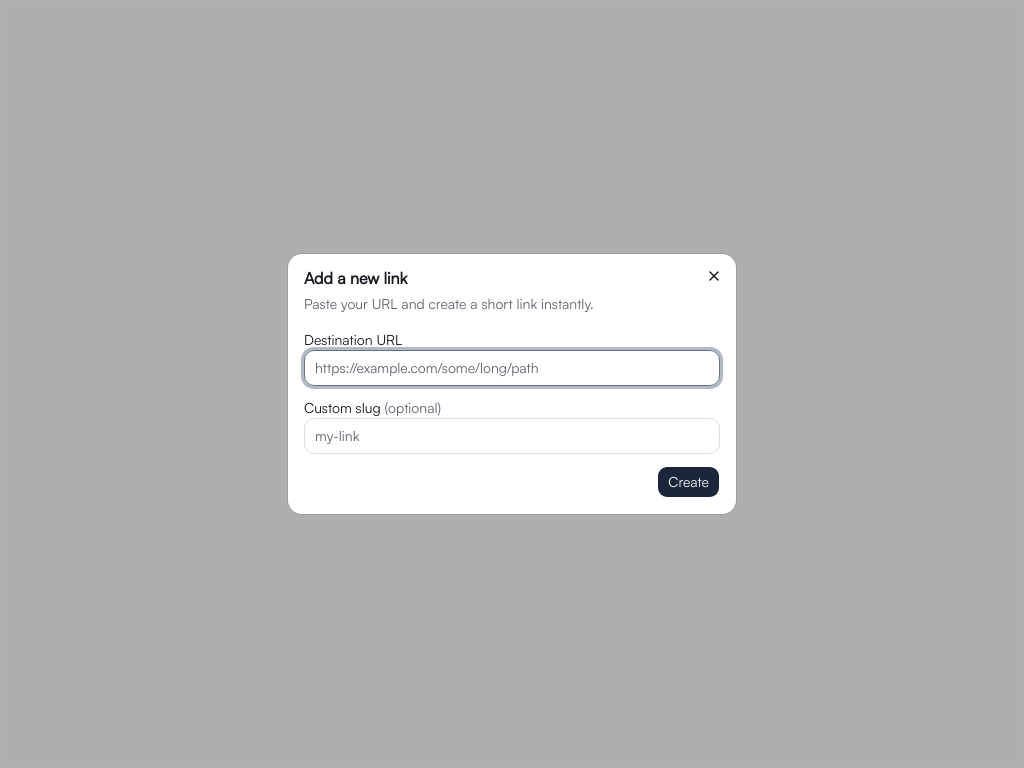
Test: AddLinkDialog › shows backend uniqueness errors after a valid form passes Zod
This screenshot has width=1024, height=768.
Type "https://example.com" into the field labelled "Destination URL" at (512, 368), box [304,350,720,386]
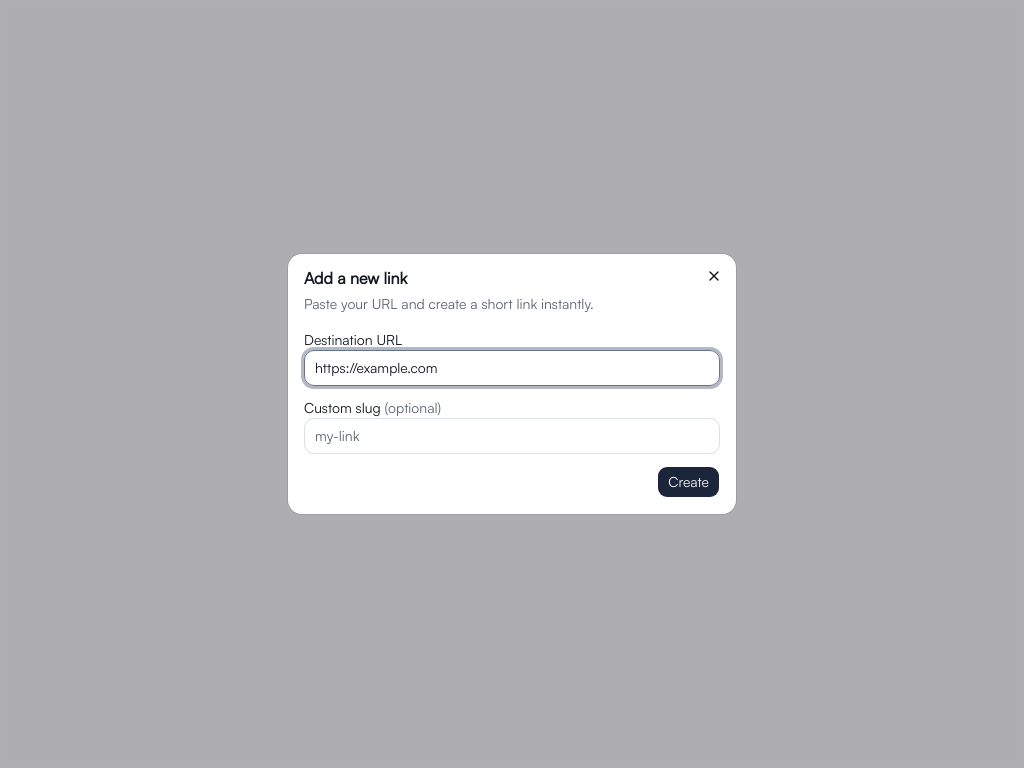
Type "docs-ok" into the field labelled "Custom slug (optional)" at (512, 436), box [304,418,720,454]
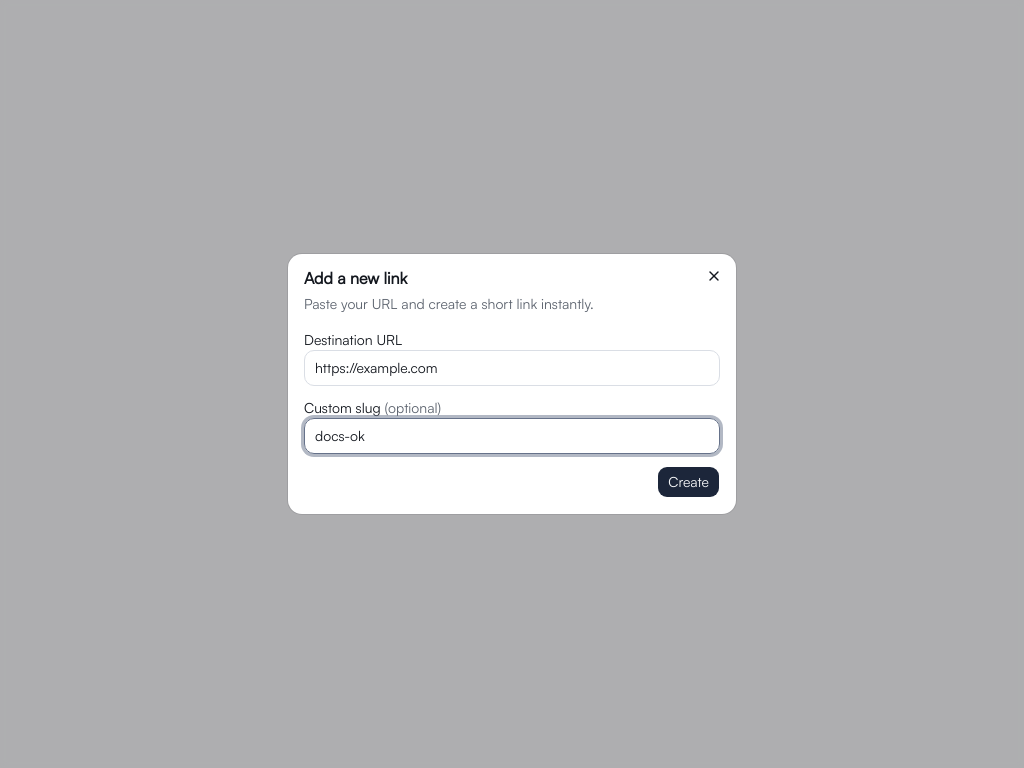
Click the button "Create" at (689, 482), box [657,466,720,498]
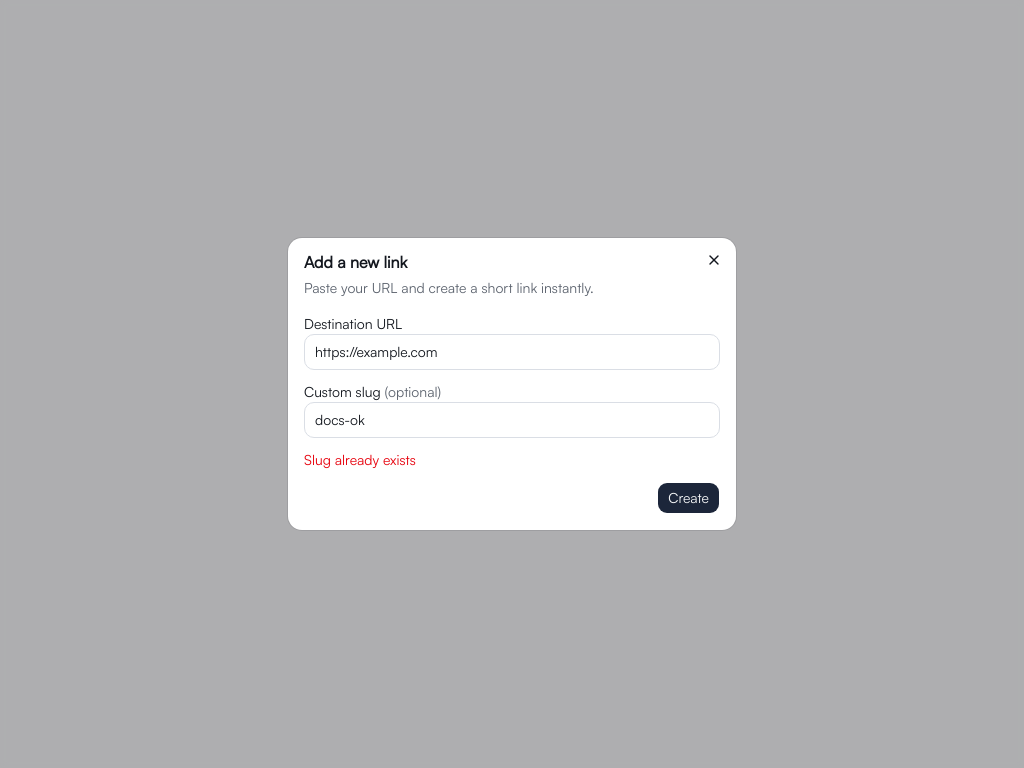
Now the message reads "Slug already exists", box [304,451,416,468]
